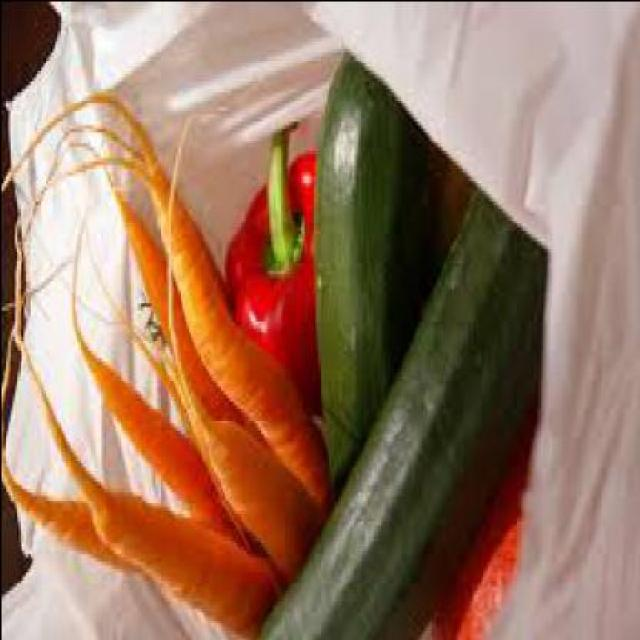BIODEGRADABLE: (1, 83, 332, 517), (258, 200, 536, 637), (169, 112, 326, 586), (66, 261, 268, 557), (312, 44, 431, 505), (2, 447, 281, 636), (114, 174, 257, 426), (228, 119, 322, 415), (433, 396, 529, 636), (424, 139, 478, 283)
